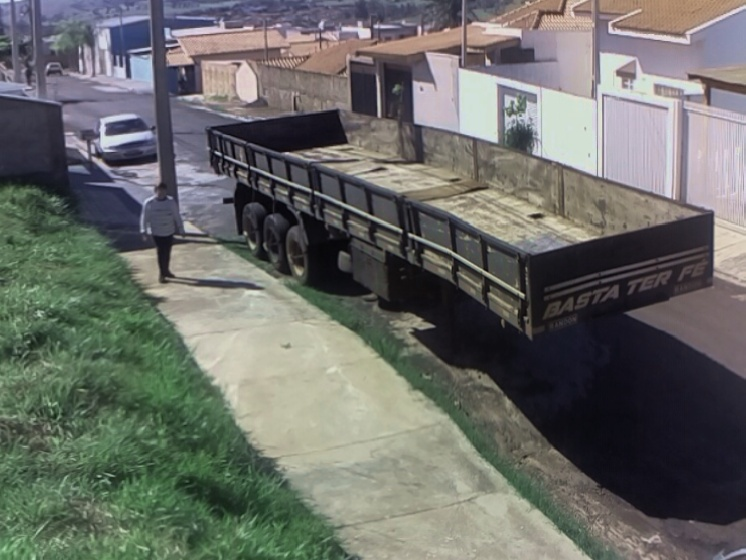person: (138, 181, 189, 283)
